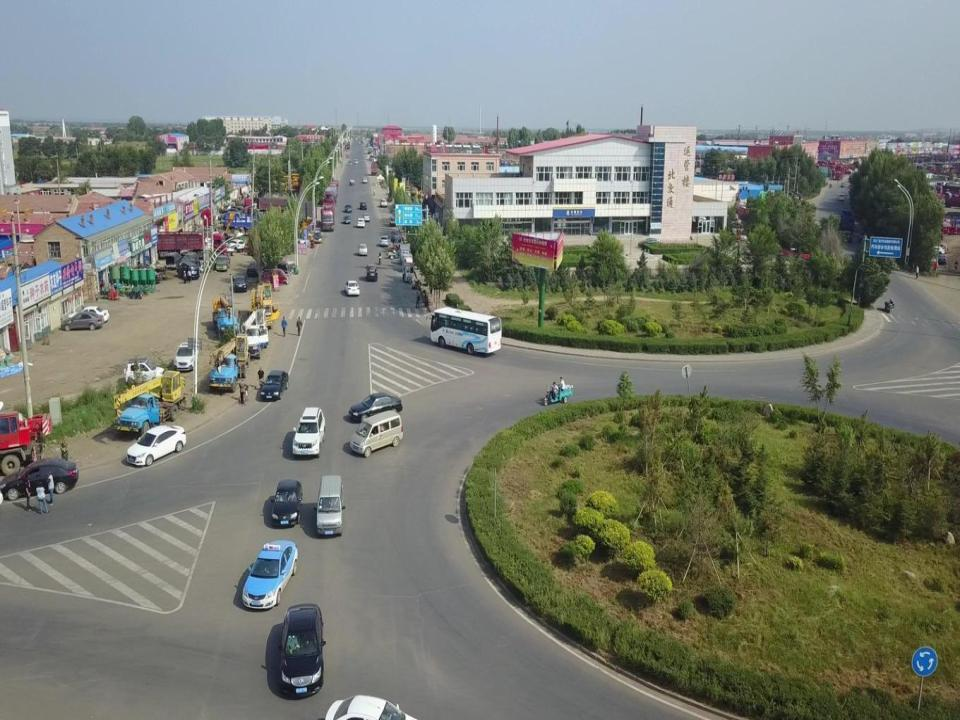bus: (426, 307, 502, 356)
car: (278, 602, 326, 698), (242, 538, 299, 610), (0, 457, 78, 499), (126, 424, 186, 467), (348, 390, 402, 424), (290, 408, 326, 458), (269, 478, 303, 528), (124, 358, 165, 385), (60, 310, 104, 330), (260, 370, 288, 401), (173, 341, 199, 373), (67, 305, 110, 323), (131, 267, 163, 285), (264, 260, 292, 278), (224, 239, 245, 253), (344, 280, 360, 296), (926, 246, 946, 258), (235, 275, 248, 291), (246, 262, 259, 276), (312, 230, 323, 244), (379, 235, 391, 247), (357, 243, 368, 256), (390, 230, 401, 243), (937, 254, 948, 265), (356, 217, 365, 228), (342, 215, 352, 224), (344, 203, 352, 213), (362, 213, 370, 222), (359, 200, 367, 209), (380, 199, 388, 207), (389, 217, 396, 226), (362, 177, 368, 183), (354, 158, 359, 164), (348, 160, 352, 166)
truck: (157, 231, 227, 258), (320, 202, 336, 231), (838, 208, 855, 232), (214, 255, 230, 271), (325, 186, 336, 206), (327, 180, 339, 196), (370, 162, 378, 175)
van: (349, 408, 402, 458), (313, 474, 346, 535), (262, 268, 289, 285), (177, 260, 199, 278), (182, 252, 198, 268), (164, 252, 180, 268), (366, 264, 377, 282), (842, 230, 853, 243), (839, 193, 844, 200)
